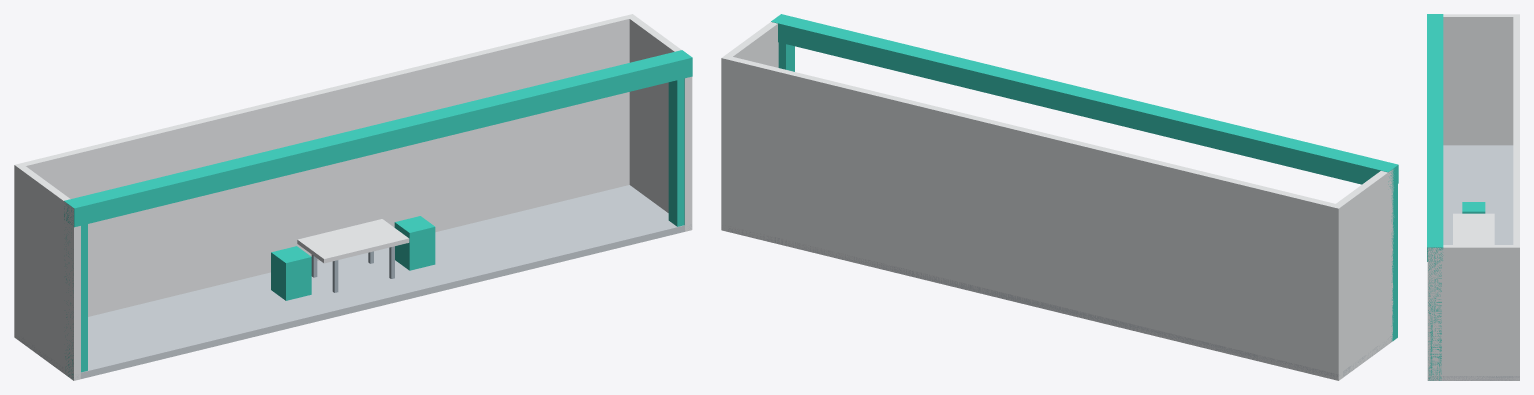
The picture shows the model from 3 angles, left to right: view 1: azimuth 30°, elevation 25°; view 2: azimuth 150°, elevation 25°; view 3: azimuth 270°, elevation 25°; orthographic projection. The views are drawn at different scales.
Visible parts, largest first — view 1: Exhibition Booth Concept; view 2: Exhibition Booth Concept; view 3: Exhibition Booth Concept.
Part boxes in pixels (x1,y1,x2,y2): Exhibition Booth Concept: (14,14,692,380); Exhibition Booth Concept: (721,14,1398,380); Exhibition Booth Concept: (1427,14,1519,380).
Bounding box in the file's own units: 12 × 3.2 × 2.01.
